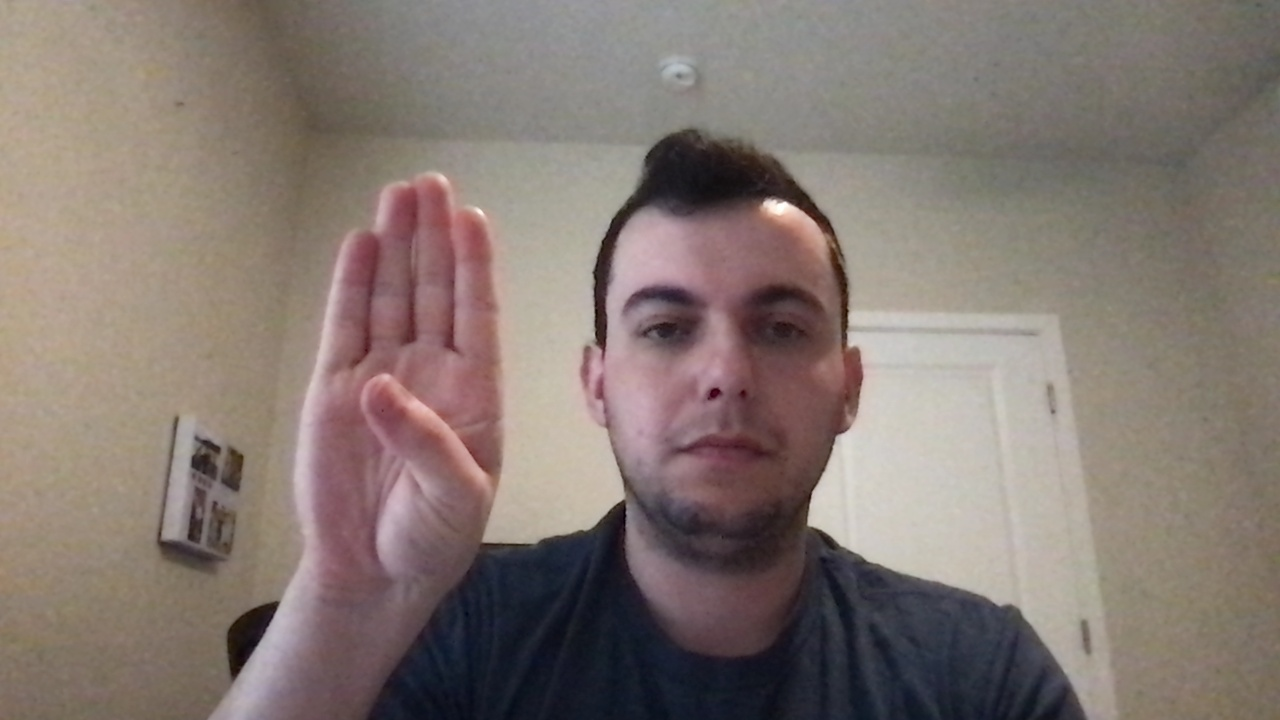b: (299, 168, 506, 602)
